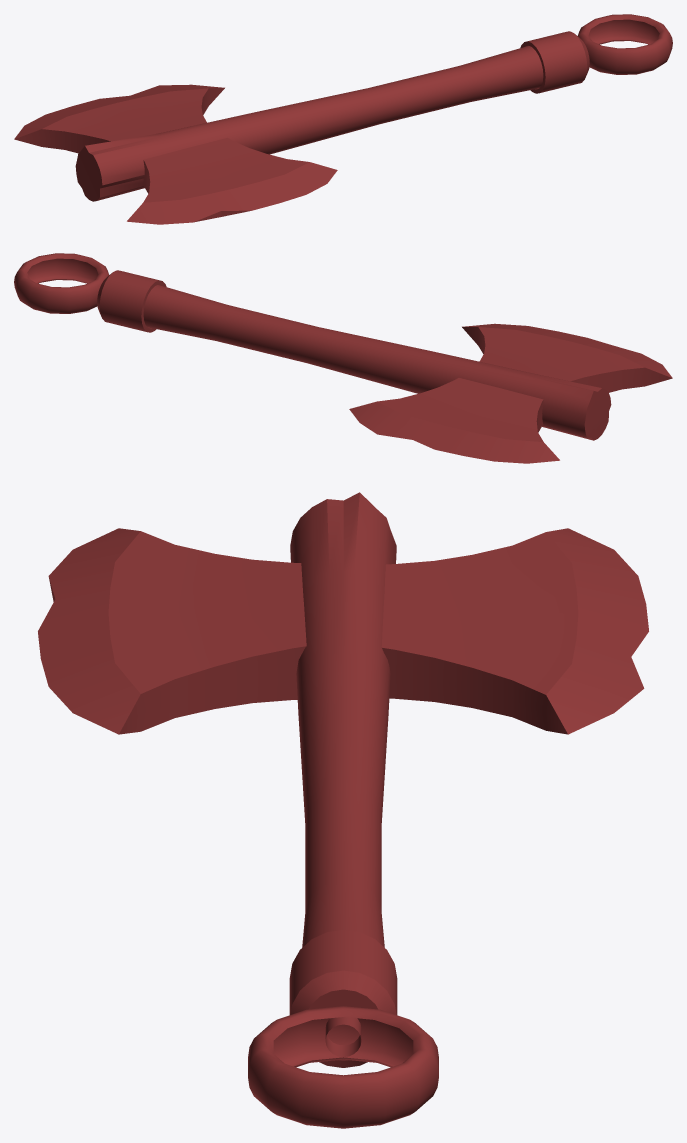
The model's file is mesh_HachaHazard.fbx.
3 views of the same model, one above another, from view 1: azimuth 30°, elevation 25°; view 2: azimuth 150°, elevation 25°; view 3: azimuth 270°, elevation 25° (orthographic). The views are drawn at different scales.
Parts seen in each view (by area): view 1: mesh_HachaHazard; view 2: mesh_HachaHazard; view 3: mesh_HachaHazard.
Part boxes in pixels (x1,y1,x2,y2): mesh_HachaHazard: [14, 14, 672, 224]; mesh_HachaHazard: [14, 253, 672, 463]; mesh_HachaHazard: [38, 492, 648, 1128].
Bounding box in the file's own units: 1443 × 119 × 641.
